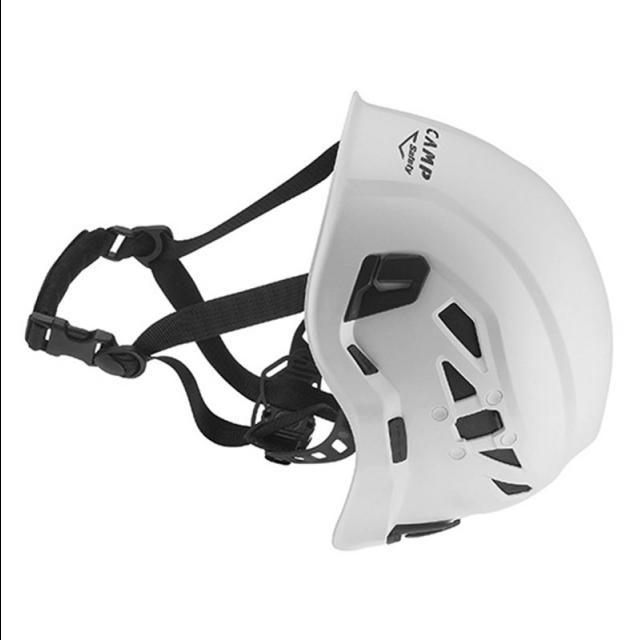construction helmet: (299, 90, 613, 552)
